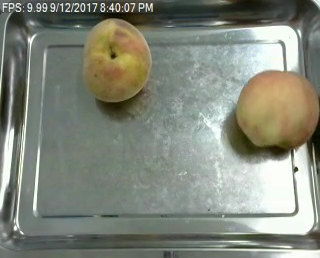Peach: (235, 69, 319, 150), (82, 18, 151, 102)
